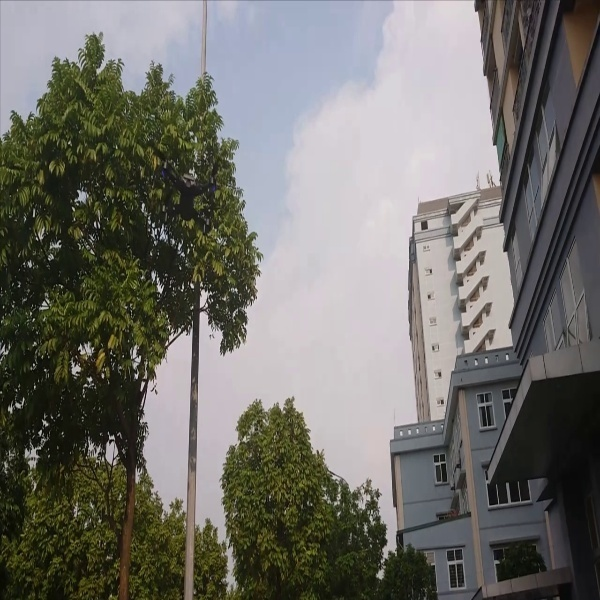drone: (150, 148, 227, 231)
